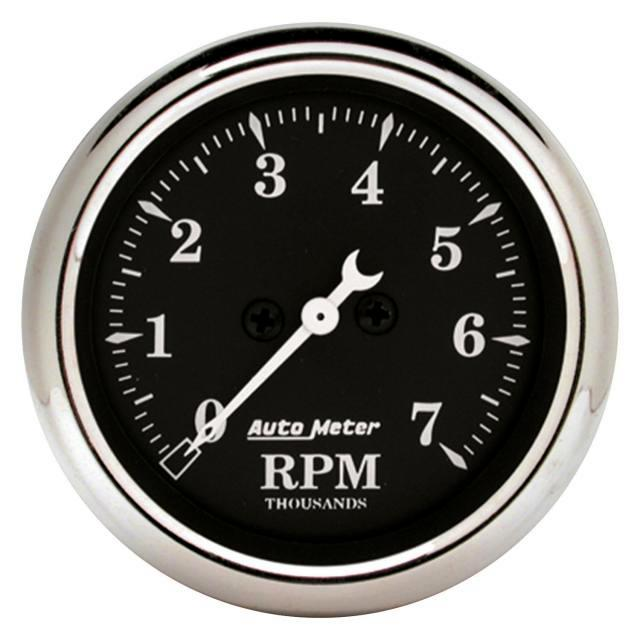Needle_Tip: (191, 380, 278, 446)
Needle_base: (295, 281, 343, 354)
max_value: (392, 389, 446, 460)
min_value: (188, 383, 225, 450)
